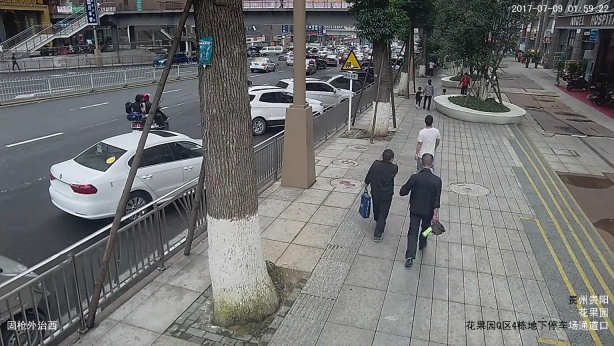person: (408, 148, 445, 281), (363, 144, 400, 244), (418, 114, 444, 155), (133, 85, 160, 123), (425, 76, 437, 112), (456, 72, 470, 96), (415, 86, 425, 107), (525, 48, 533, 72), (11, 52, 20, 72), (534, 52, 542, 69)
